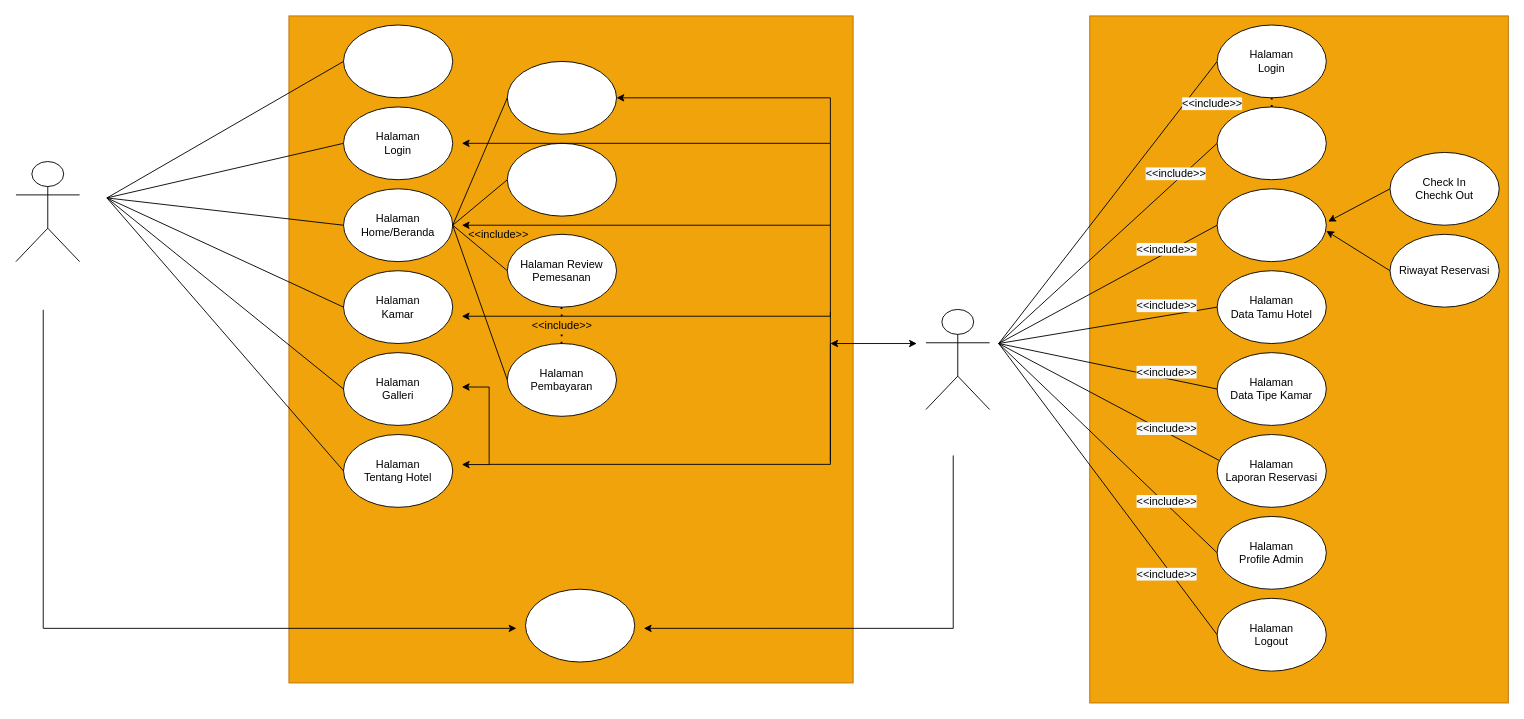
The diagram is 1524 pixels wide and 719 high, and some of its shapes have lost their labels. The box of each missing label's shape, as (x1, y1, x2, y2) in pixels:
Admin: (925, 308, 990, 410)
Halaman Dashboard: (1216, 106, 1326, 180)
Halaman Data Pemesanan: (506, 142, 617, 216)
Halaman Data Reservasi: (1216, 188, 1326, 262)
Halaman Ketersediaan Kamar: (506, 61, 617, 134)
Halaman Registrasi: (343, 24, 453, 98)
Logout: (525, 588, 635, 662)
Tamu: (15, 161, 80, 262)
